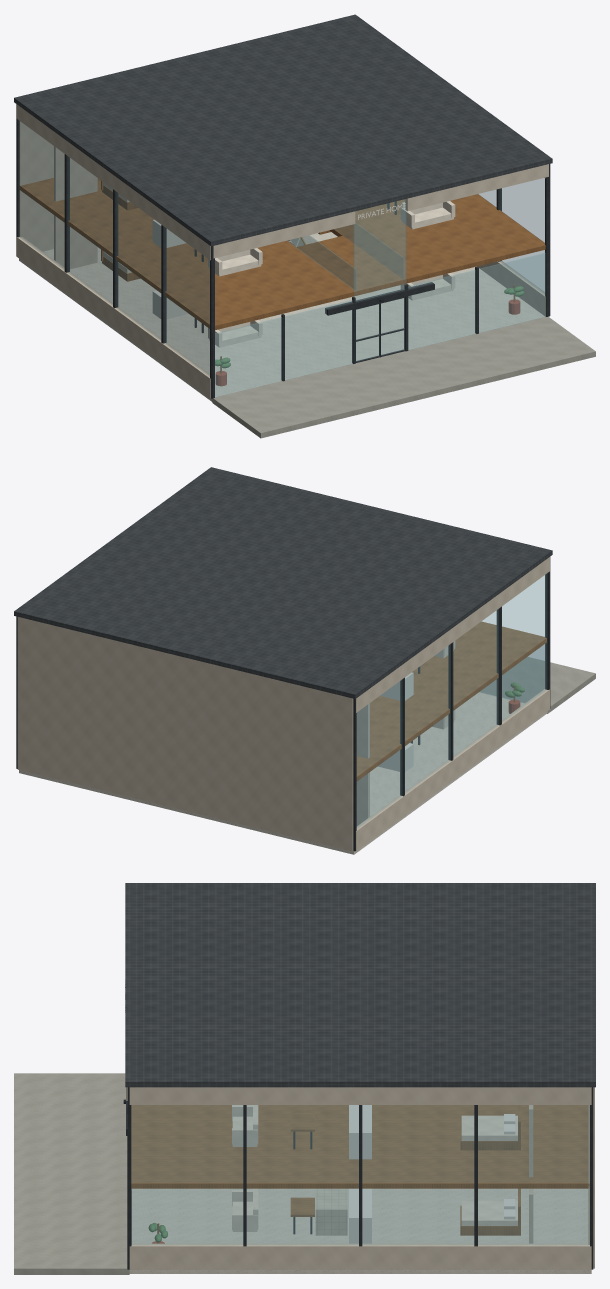
Rendered from 17_Private_Home_LOD1.glb.
The picture shows the model from 3 angles, top to bottom: view 1: azimuth 30°, elevation 25°; view 2: azimuth 150°, elevation 25°; view 3: azimuth 270°, elevation 25°; orthographic projection. The views are drawn at different scales.
Parts seen in each view (by area): view 1: Roof, Side glazing, Floor, Approach, Upper floor, Upper floor.001, Front glazing, Front glazing.001, Entrance transom, Side base wall, Rear wall, Side glazing.001 (+17 smaller); view 2: Roof, Rear wall, Side glazing, Upper floor, Floor, Side base wall, Side upper wall, Approach, Front glazing, Private bathroom screen.001, Side mullion.002, Side mullion.001 (+4 smaller); view 3: Roof, Side glazing.001, Upper floor.001, Approach, Floor, Side base wall.001, Side upper wall.001, Island, Mattress.003, Mattress.002, Kitchen run.002, Kitchen run.003 (+8 smaller).
Part boxes in pixels (x1=…): Roof: x1=14, y1=14, x2=552, y2=246; Side glazing: x1=19, y1=121, x2=209, y2=376; Floor: x1=19, y1=232, x2=544, y2=401; Approach: x1=212, y1=316, x2=595, y2=438; Upper floor: x1=19, y1=178, x2=356, y2=330; Upper floor.001: x1=329, y1=194, x2=545, y2=284; Front glazing: x1=215, y1=300, x2=352, y2=397; Front glazing.001: x1=408, y1=253, x2=545, y2=349; Entrance transom: x1=353, y1=199, x2=406, y2=301; Side base wall: x1=16, y1=237, x2=210, y2=398; Rear wall: x1=19, y1=121, x2=53, y2=251; Side glazing.001: x1=478, y1=178, x2=544, y2=293; Roof: x1=14, y1=467, x2=552, y2=698; Rear wall: x1=17, y1=617, x2=353, y2=851; Side glazing: x1=357, y1=574, x2=547, y2=828; Upper floor: x1=356, y1=621, x2=546, y2=781; Floor: x1=19, y1=692, x2=547, y2=854; Side base wall: x1=356, y1=689, x2=549, y2=850; Side upper wall: x1=356, y1=557, x2=549, y2=712; Approach: x1=480, y1=657, x2=595, y2=713; Front glazing: x1=480, y1=645, x2=544, y2=702; Private bathroom screen.001: x1=356, y1=703, x2=369, y2=758; Side mullion.002: x1=448, y1=642, x2=453, y2=760; Side mullion.001: x1=496, y1=606, x2=501, y2=725; Roof: x1=125, y1=883, x2=595, y2=1087; Side glazing.001: x1=131, y1=1105, x2=589, y2=1245; Upper floor.001: x1=131, y1=1105, x2=589, y2=1188; Approach: x1=14, y1=1073, x2=129, y2=1274; Floor: x1=129, y1=1188, x2=591, y2=1273; Side base wall.001: x1=129, y1=1243, x2=591, y2=1269; Side upper wall.001: x1=129, y1=1087, x2=591, y2=1104; Island: x1=315, y1=1188, x2=347, y2=1235; Mattress.003: x1=461, y1=1115, x2=517, y2=1140; Mattress.002: x1=461, y1=1200, x2=517, y2=1225; Kitchen run.002: x1=349, y1=1188, x2=371, y2=1243; Kitchen run.003: x1=349, y1=1105, x2=371, y2=1159.
Bounding box in the file's own units: 16.3 × 7.44 × 20.15.
16 materials, 11 textured.
